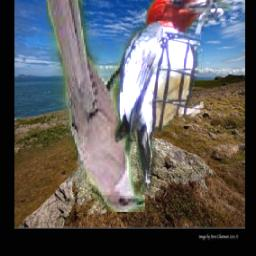Cuckoo: (46, 0, 145, 212)
Woodpecker: (114, 0, 233, 193)
